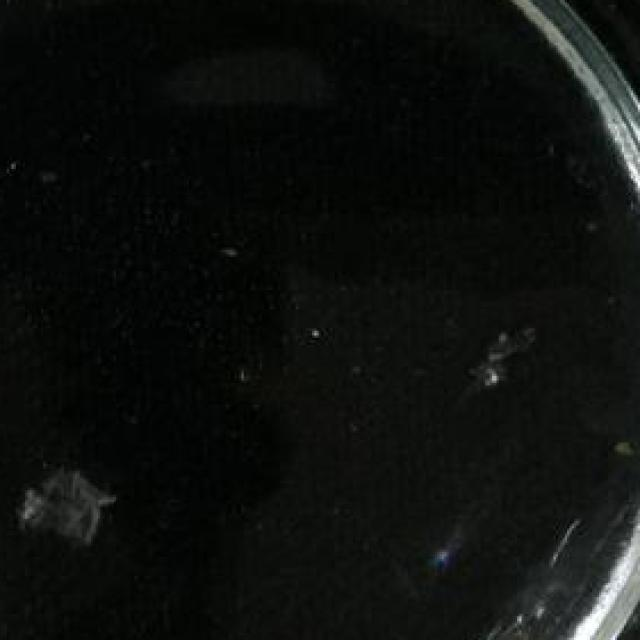Microplastic: (7, 428, 114, 574)
